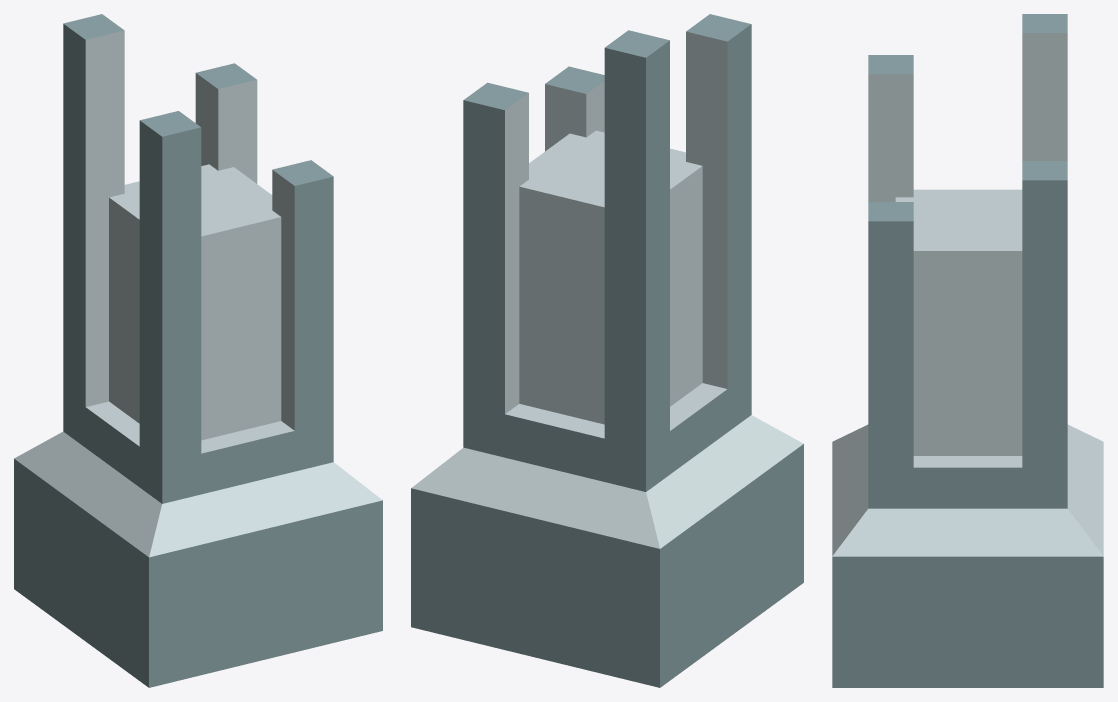
The model's file is statue_columnDamaged.glb.
3 renders of one model, left to right at view 1: azimuth 30°, elevation 25°; view 2: azimuth 150°, elevation 25°; view 3: azimuth 270°, elevation 25°, orthographic. The views are drawn at different scales.
Parts seen in each view (by area): view 1: statue_columnDamaged; view 2: statue_columnDamaged; view 3: statue_columnDamaged.
Boxes of the visible parts, bbox=[...] form: statue_columnDamaged: bbox=[14, 14, 382, 687]; statue_columnDamaged: bbox=[411, 14, 803, 687]; statue_columnDamaged: bbox=[832, 14, 1103, 687].
Size of the model in its own units: 0.3485 by 0.8131 by 0.3485.
